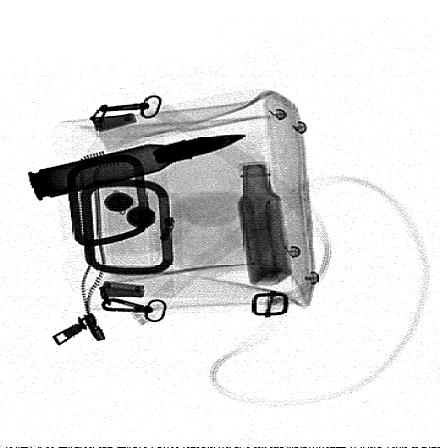Bullet: (25, 134, 253, 201)
